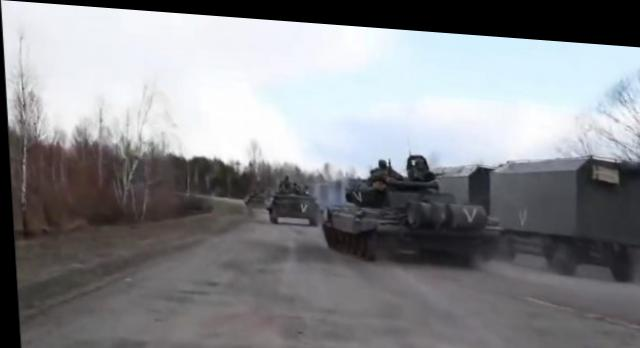tank: (321, 169, 485, 261), (261, 185, 314, 220)
